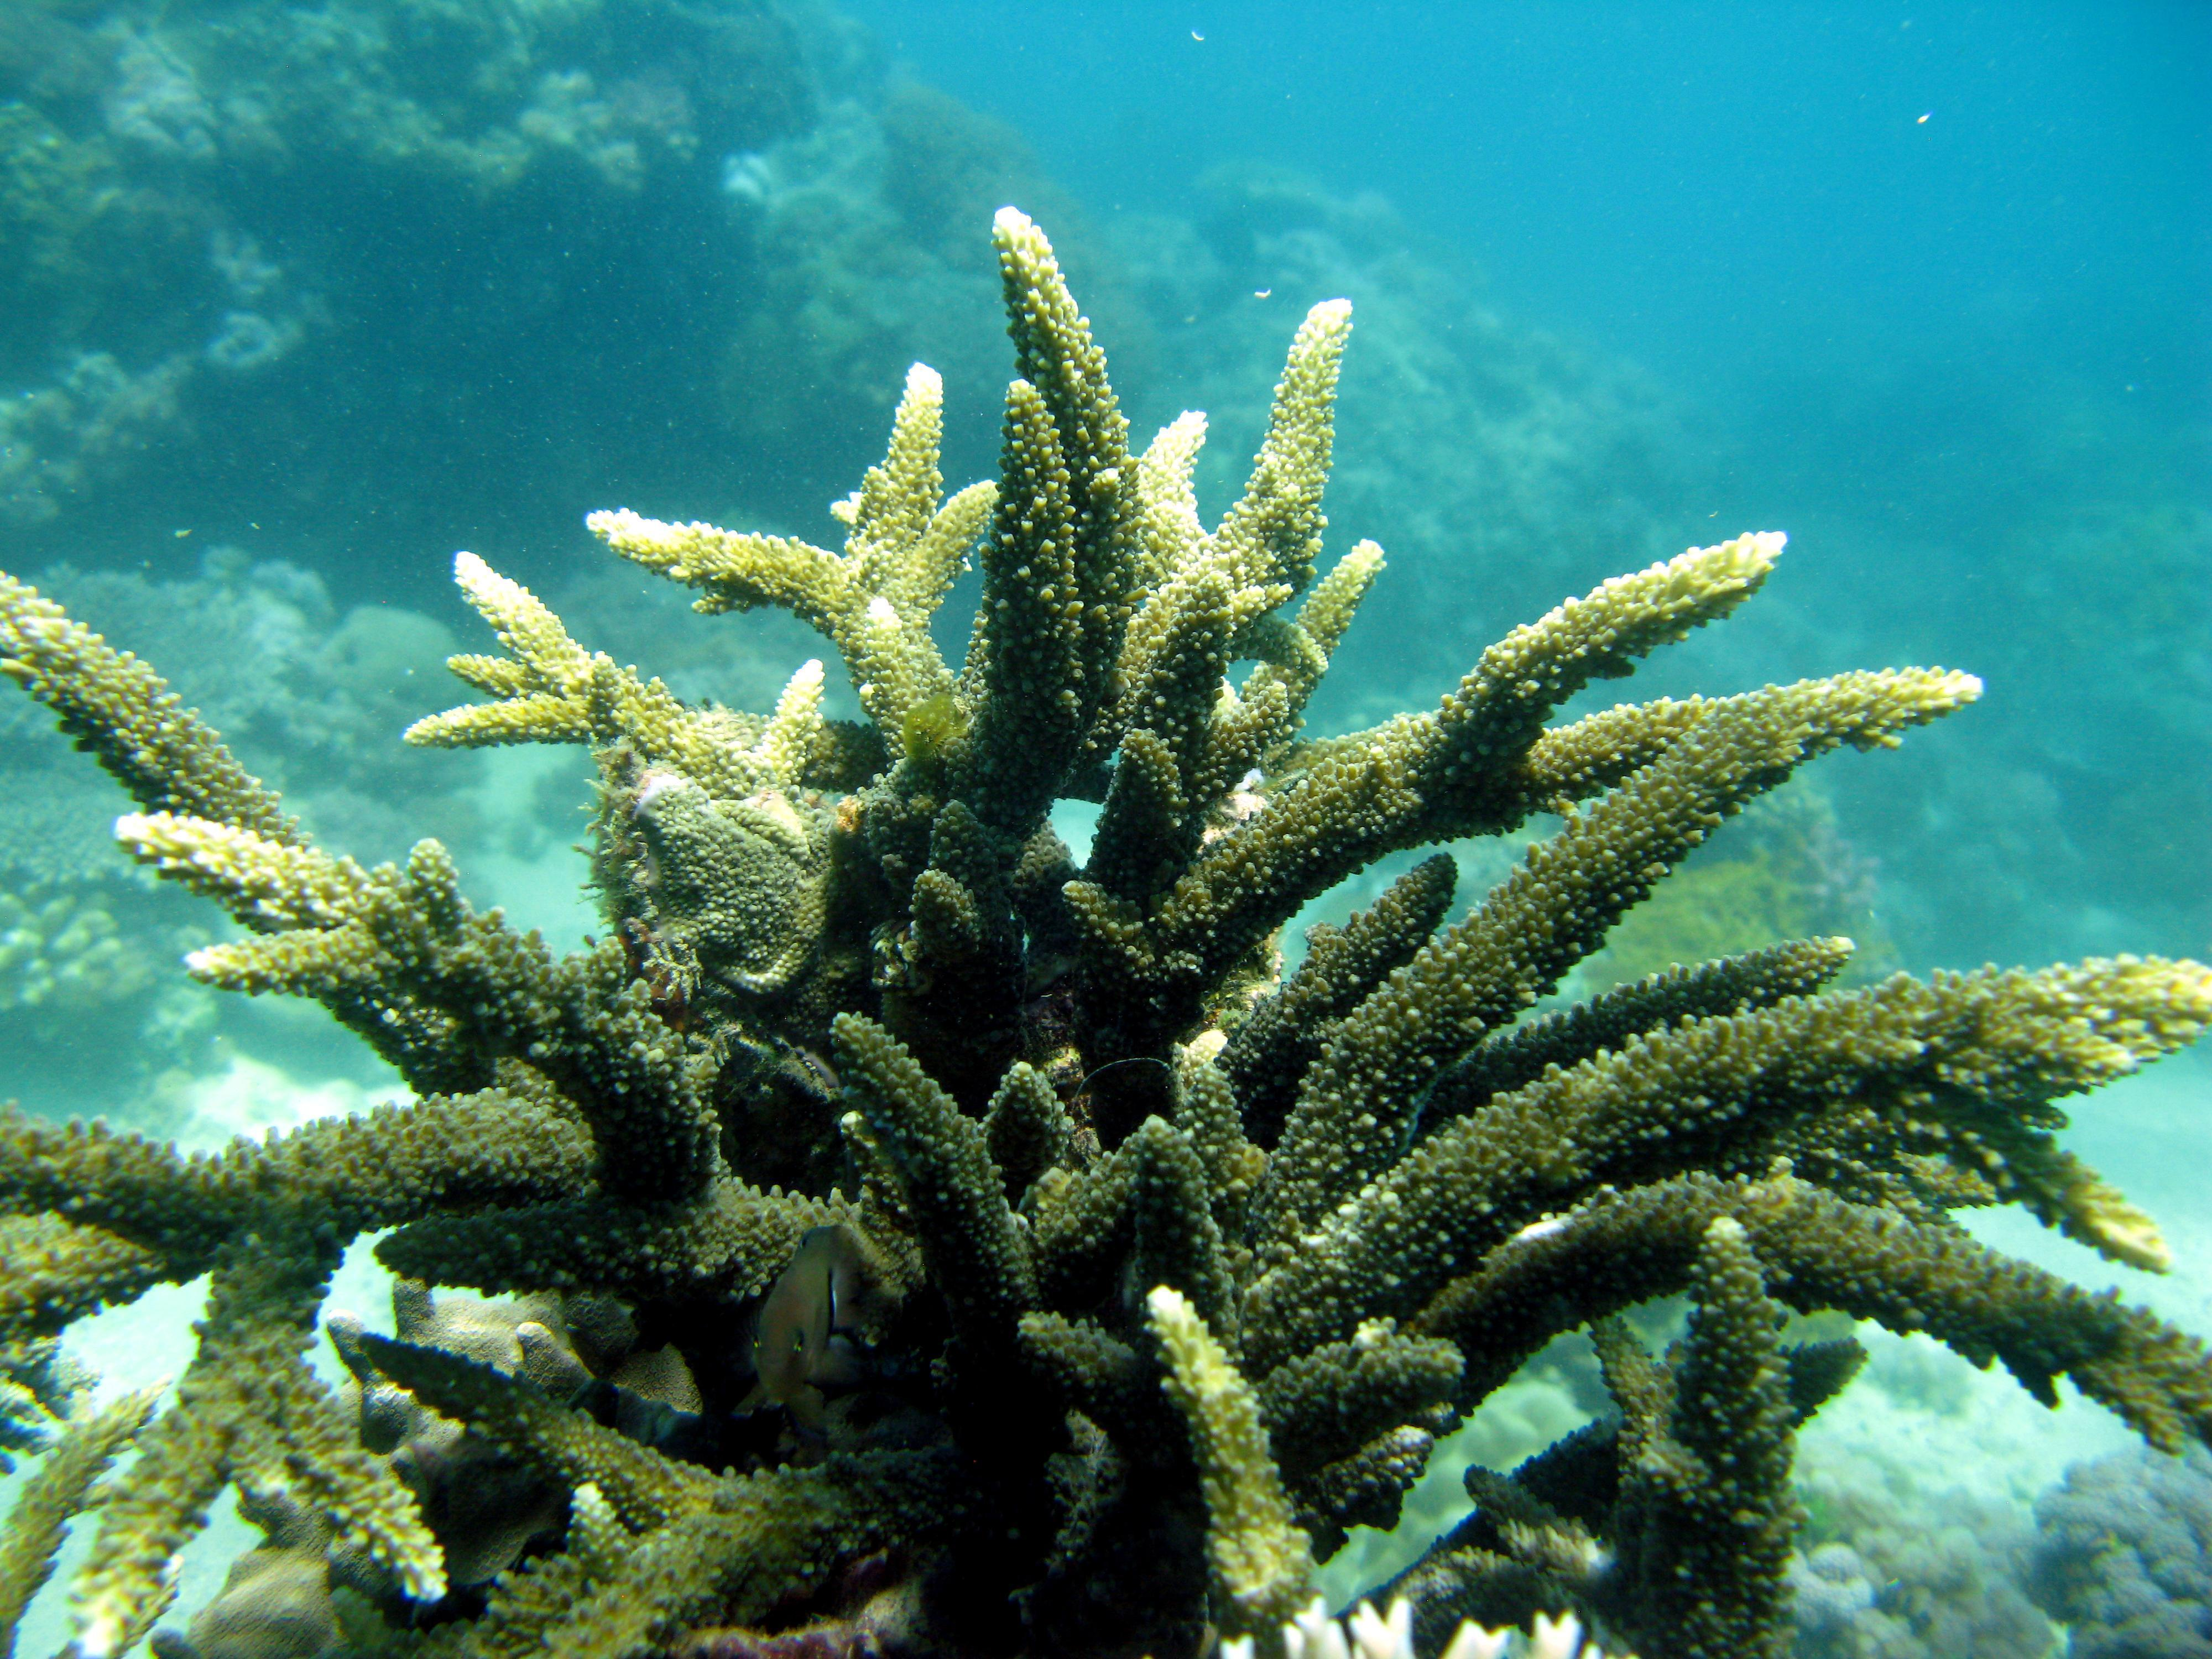Fish: (704, 1208, 909, 1439)
